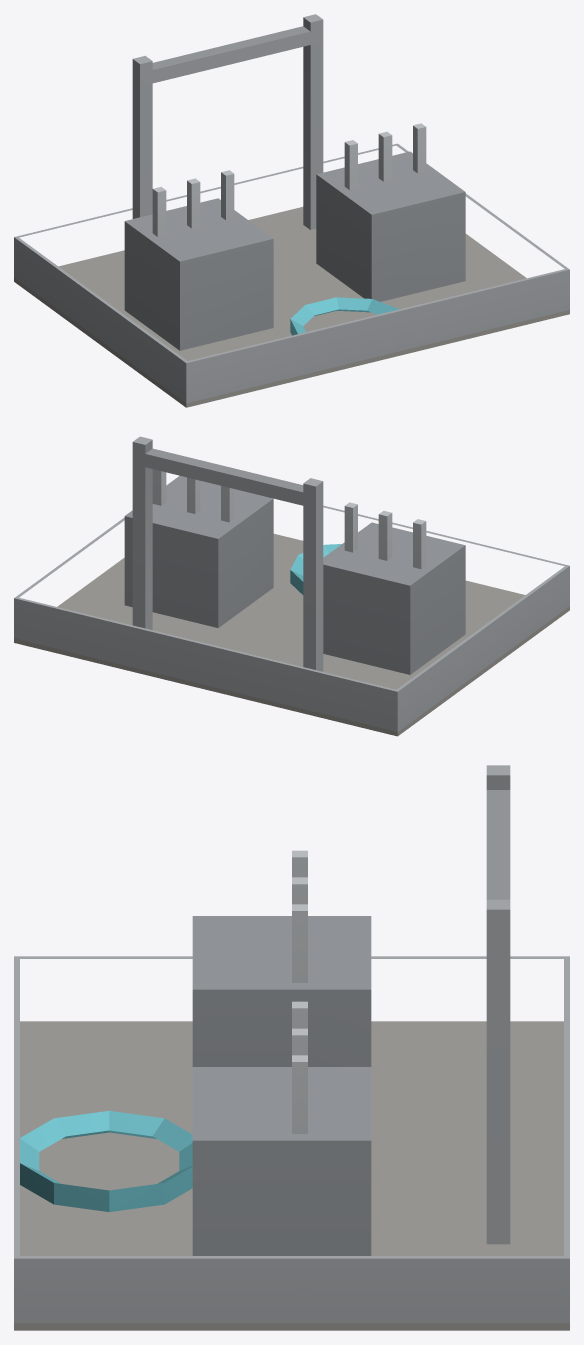
Rendered from substation.glb.
3 renders of one model, top to bottom at view 1: azimuth 30°, elevation 25°; view 2: azimuth 150°, elevation 25°; view 3: azimuth 270°, elevation 25°, orthographic. The views are drawn at different scales.
Visible parts, largest first — view 1: substation; view 2: substation; view 3: substation.
Boxes of the visible parts, bbox=[...] form: substation: bbox=[14, 14, 569, 407]; substation: bbox=[14, 436, 569, 736]; substation: bbox=[14, 765, 569, 1330].
Bounding box in the file's own units: 18 × 9.5 × 14.
